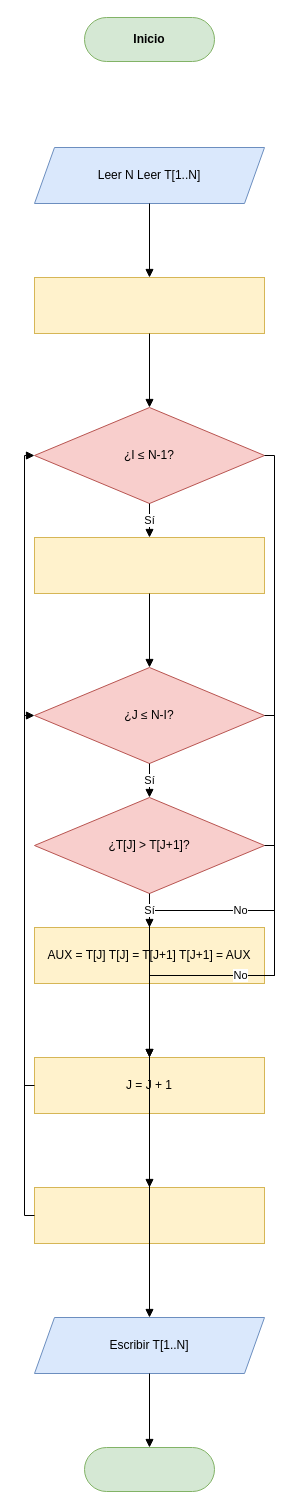
Some shapes in this 300 by 1509 pixel diagram are drawn without their labels. The shapes that lost their labels are listed below. From the top down, each one's box as (x1, y1, x2, y2) in pixels, then its label:
(34, 276, 264, 334): I = 1
(34, 536, 264, 594): J = 1
(34, 1186, 264, 1244): I = I + 1
(84, 1446, 214, 1492): Fin
